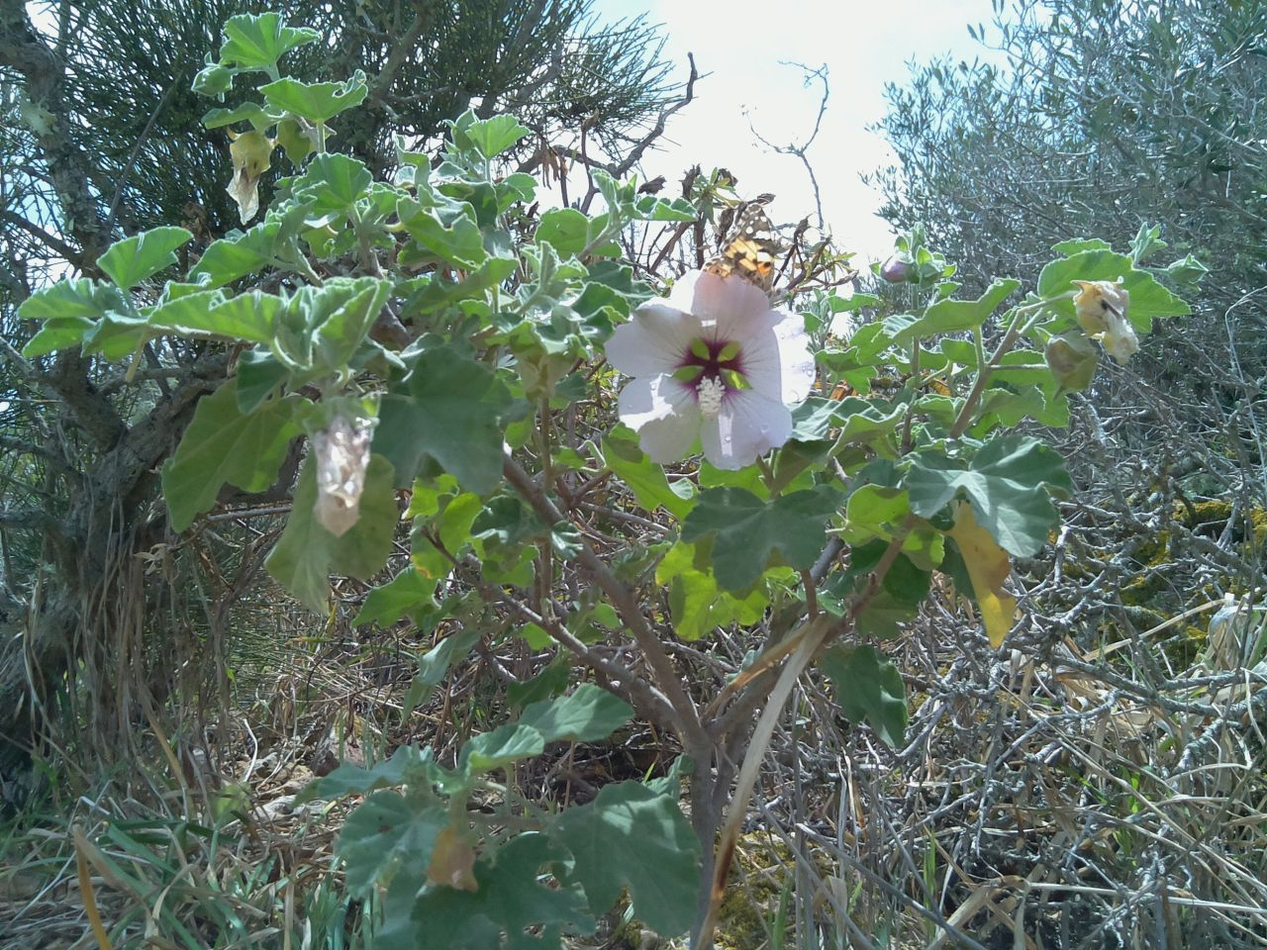Vanessa cardui: (685, 201, 798, 299)
